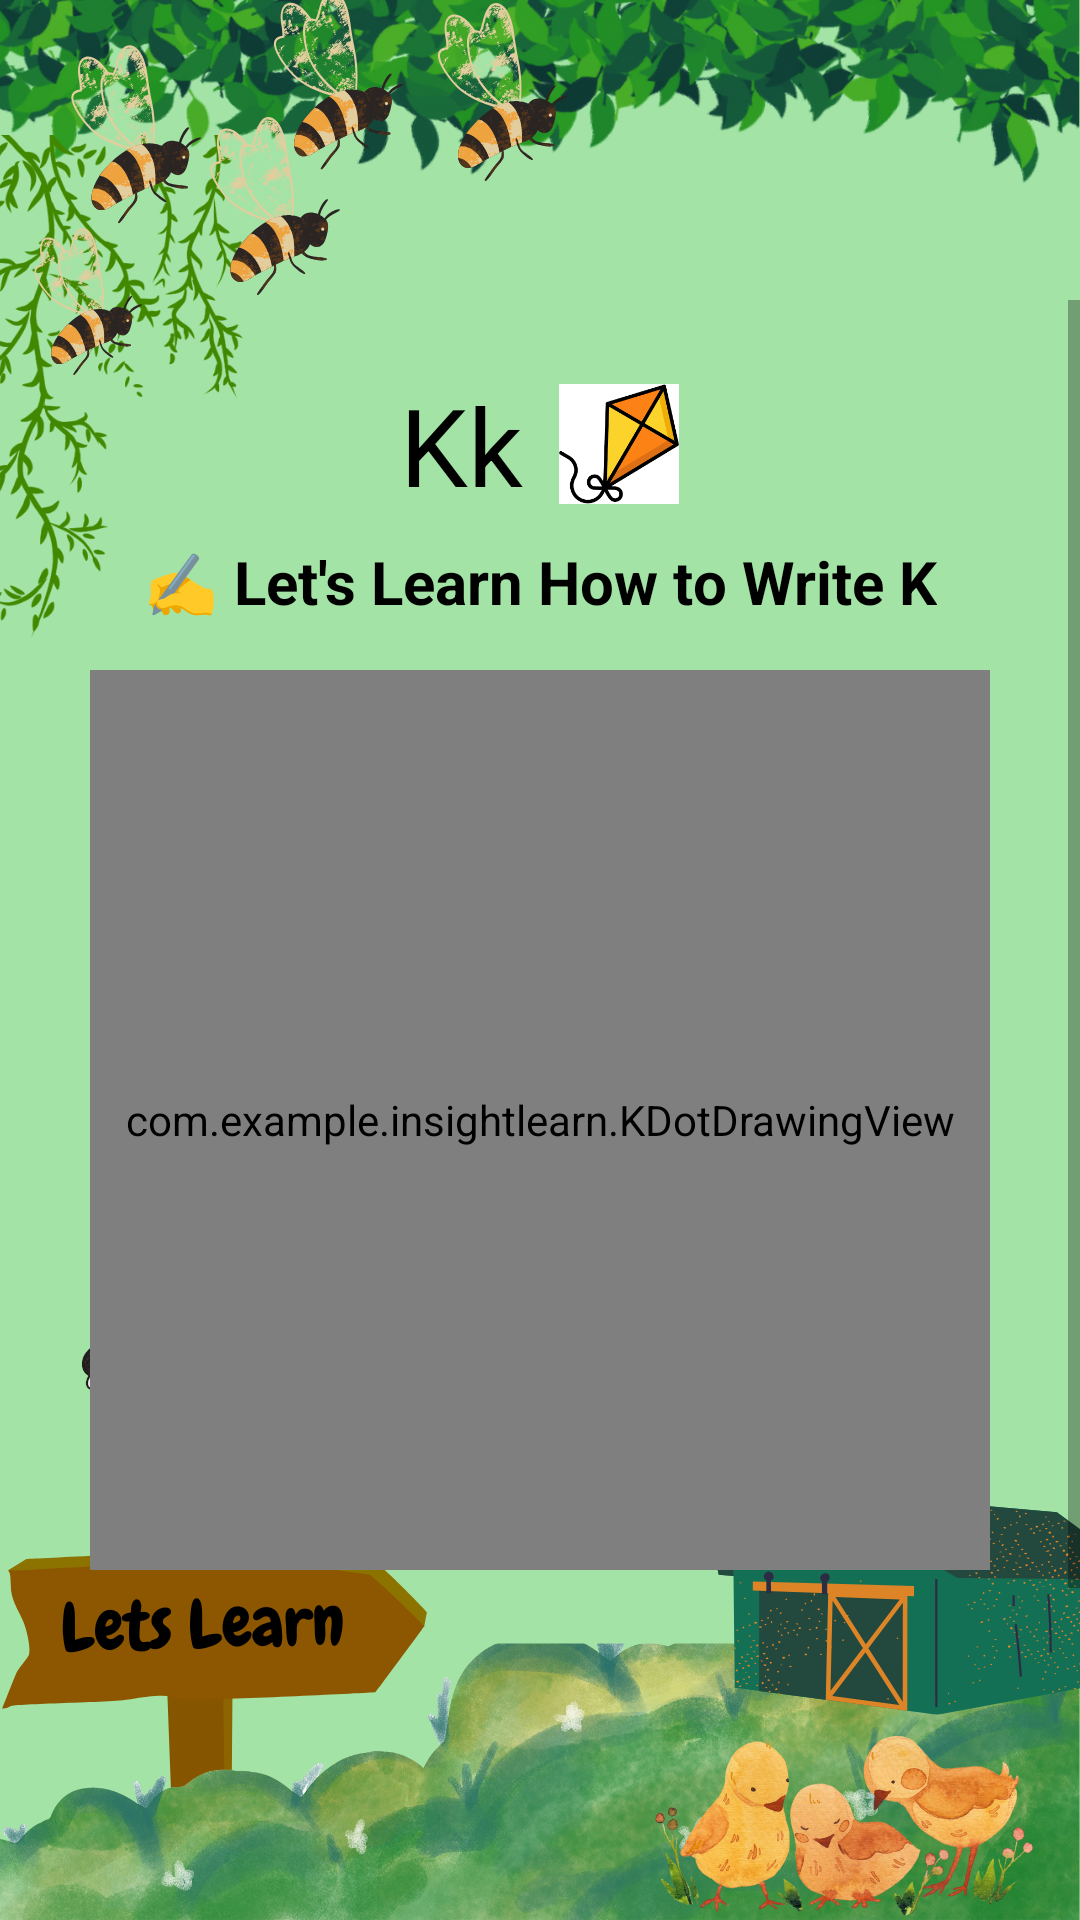

Screen size 1080 × 1920. Icon name, then its center in pixels as [x,y]:
Kite: [619,444]
